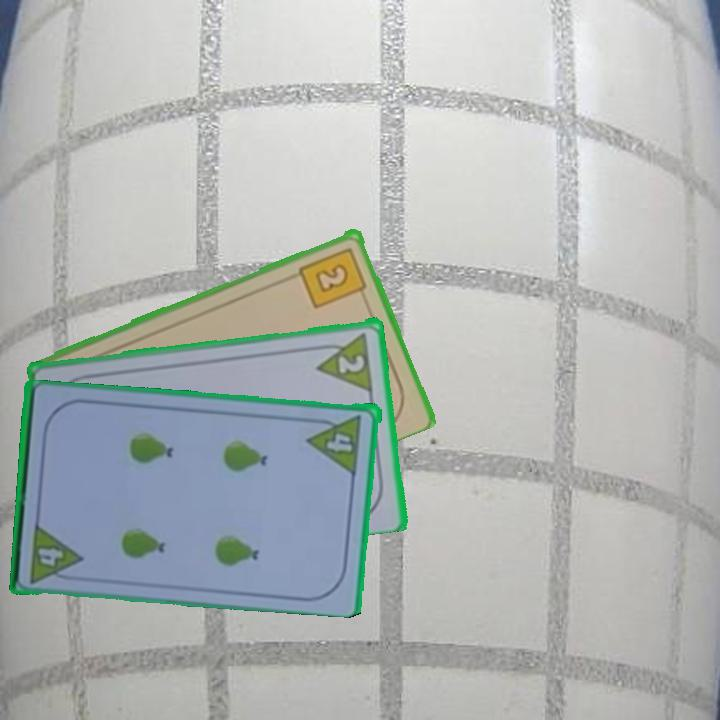2b: (296, 243, 370, 311)
2p: (335, 351, 368, 376)
4p: (26, 520, 86, 586), (306, 411, 366, 476)
